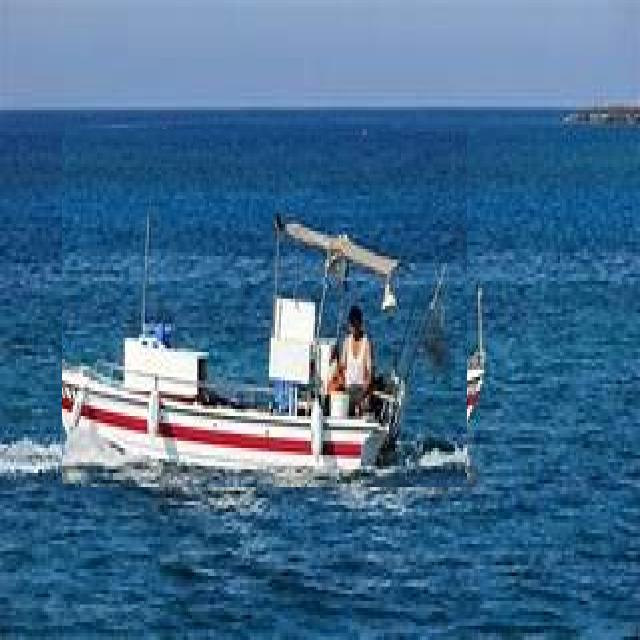Fishing Boat: (62, 129, 467, 487)
